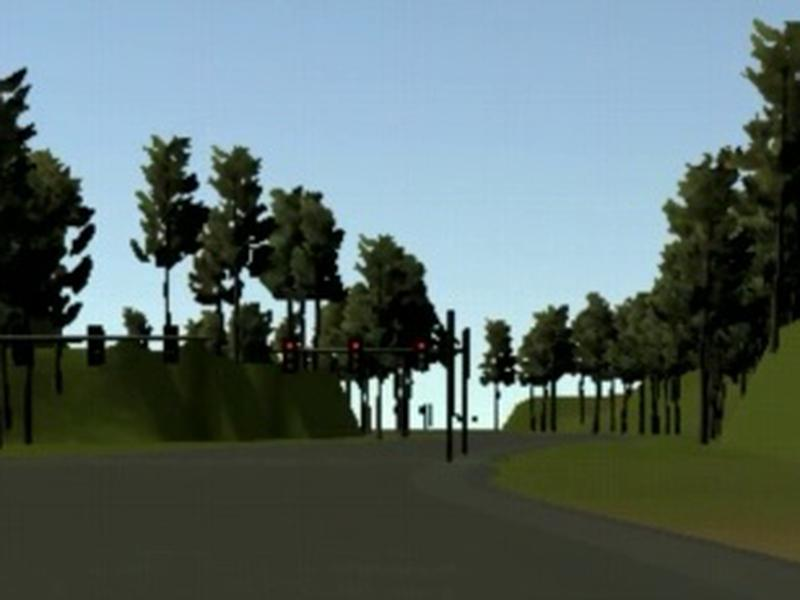Red: (283, 338, 297, 374), (348, 339, 362, 374), (415, 341, 427, 372)
